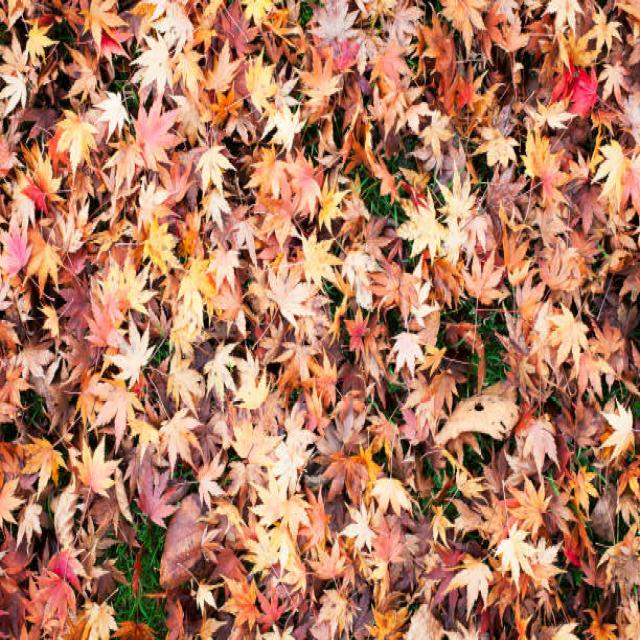paper: (264, 263, 326, 345), (551, 293, 594, 384), (134, 99, 186, 174), (98, 318, 154, 384), (403, 209, 450, 281), (246, 134, 288, 202)
